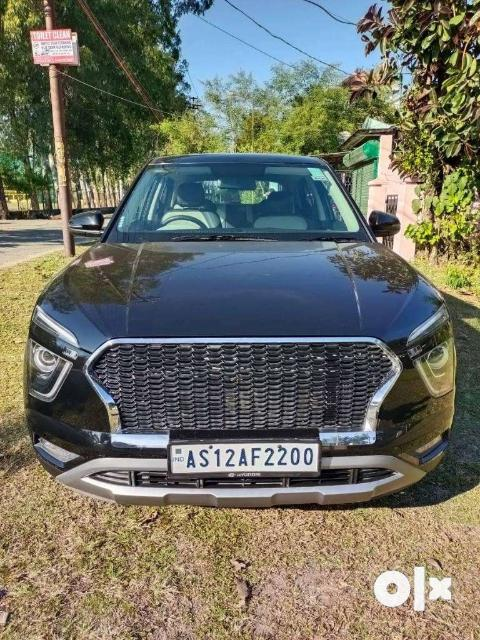Indian_Number_Plate: (168, 444, 319, 474)
